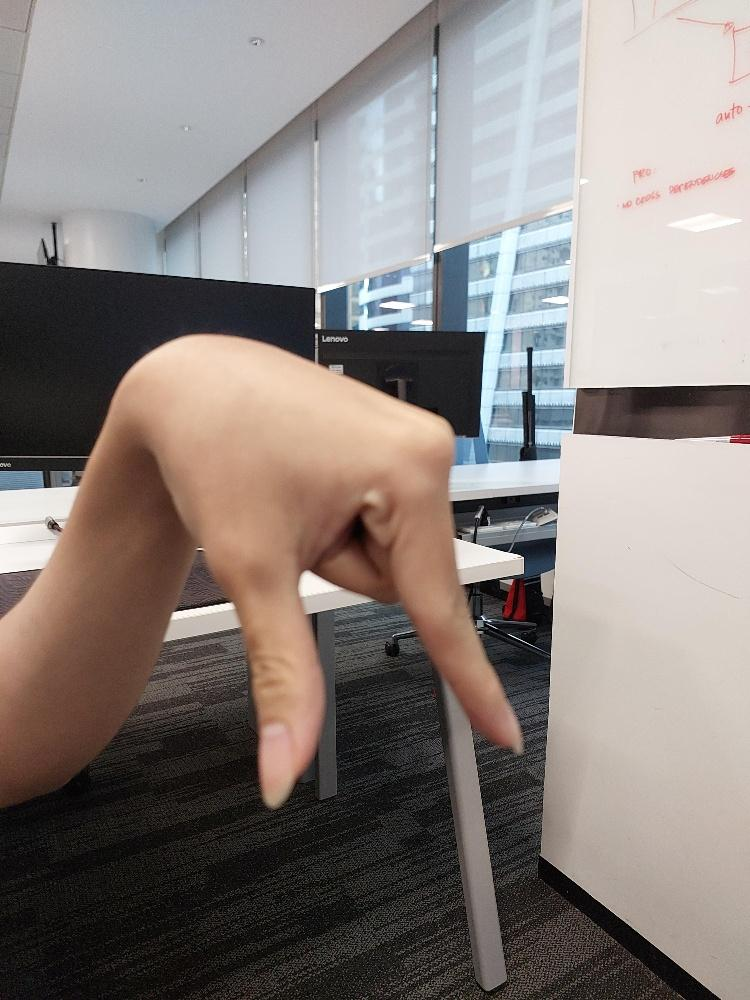q: (141, 329, 526, 811)
